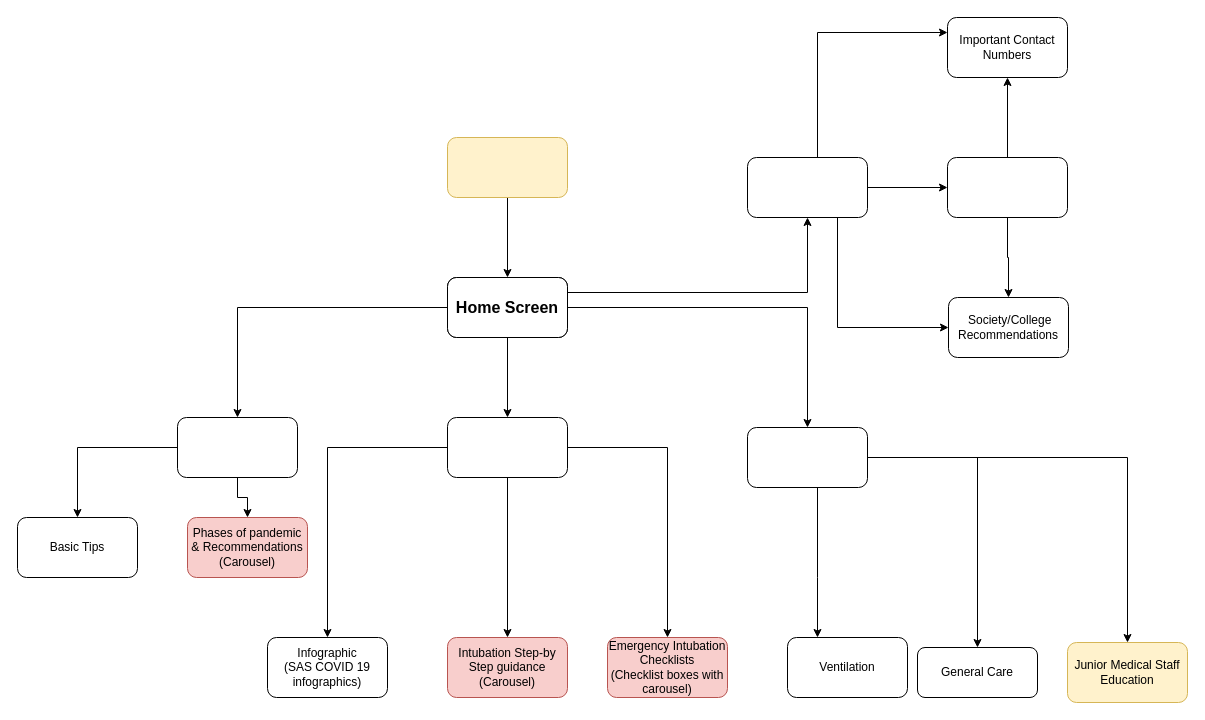
Some shapes in this 1205 by 720 pixel diagram are drawn without their labels. Here are the shapes that lost their labels. From the top down, the centre of each, then its label:
the point at 507,167: Conditions of Use/Disclaimer (Only on first use)
the point at 807,187: Info/Additional resources
the point at 1007,187: WH COVID-19 Daily Bulletin
the point at 237,447: Staff welfare
the point at 507,447: Intubation
the point at 807,457: ICU for the non-intesivist
